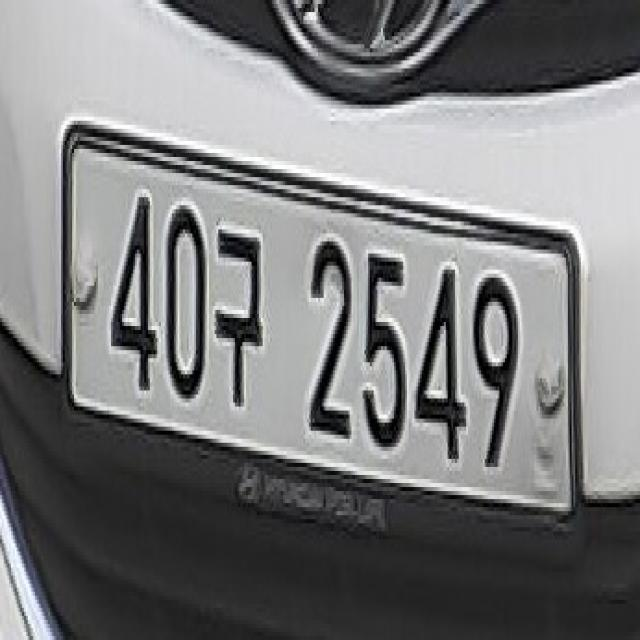0: (164, 193, 210, 411)
2: (306, 229, 352, 443)
4: (410, 258, 470, 463), (102, 181, 157, 399)
5: (362, 237, 410, 459)
9: (468, 270, 520, 475)
gu: (213, 218, 266, 414)
license_plate: (55, 125, 581, 535)
